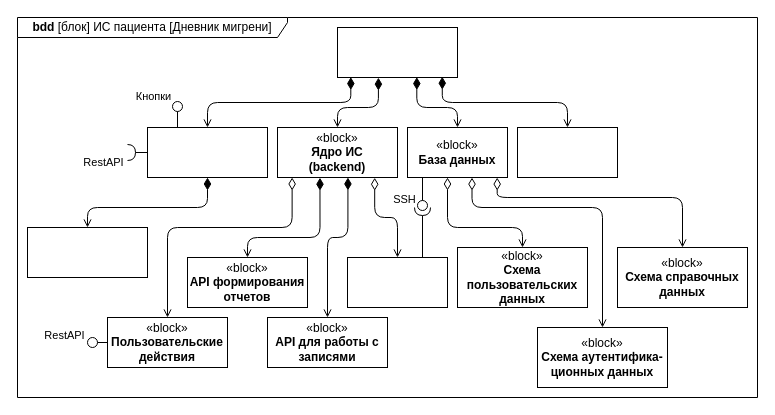
Image size: 775x415. Some labels were removed from this diagram. The shapes that lost their labels are listed below. From the top down, each one's centre as x and y in pixels, then its label:
(x=397, y=52): «system» ИС «Дневник мигрени»
(x=207, y=152): «block» Пользовательский интерфейс
(x=567, y=152): «block» Сервер уведомлений
(x=87, y=252): «block» Локальное хранилище
(x=397, y=282): «block» ORM для БД
